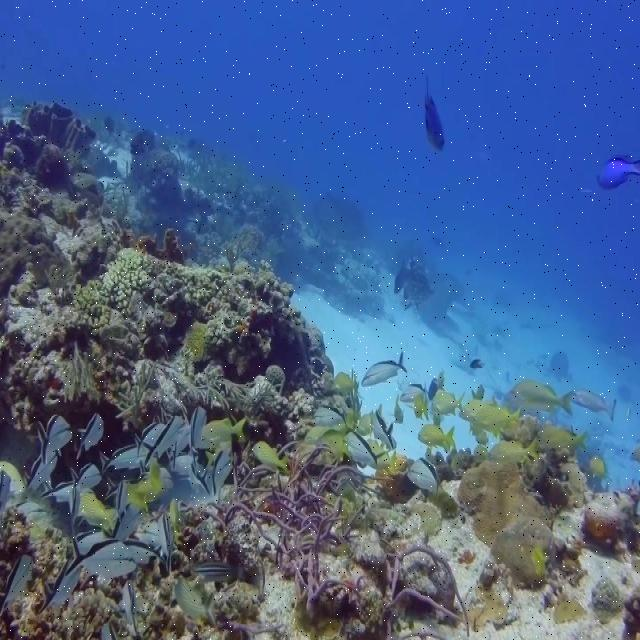fish: (425, 75, 445, 149)
